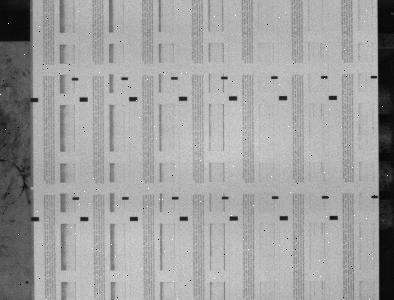backgroundclutter: (25, 280, 29, 284)
qblock: (179, 96, 188, 101), (229, 96, 238, 101), (329, 95, 338, 100), (130, 216, 139, 221), (79, 97, 88, 102), (230, 216, 239, 221), (330, 215, 339, 220), (180, 216, 188, 221), (30, 97, 38, 102), (129, 97, 138, 101), (279, 96, 288, 100), (80, 217, 89, 221), (280, 216, 289, 220), (31, 217, 39, 221)
smallqblock: (322, 195, 329, 199), (371, 75, 378, 79), (72, 77, 79, 81), (172, 196, 179, 200), (72, 197, 79, 200), (171, 77, 178, 80), (271, 76, 278, 79), (272, 196, 279, 199), (372, 195, 379, 198), (222, 196, 229, 199), (122, 197, 129, 200), (321, 76, 328, 79), (221, 76, 228, 79), (122, 77, 128, 80)
